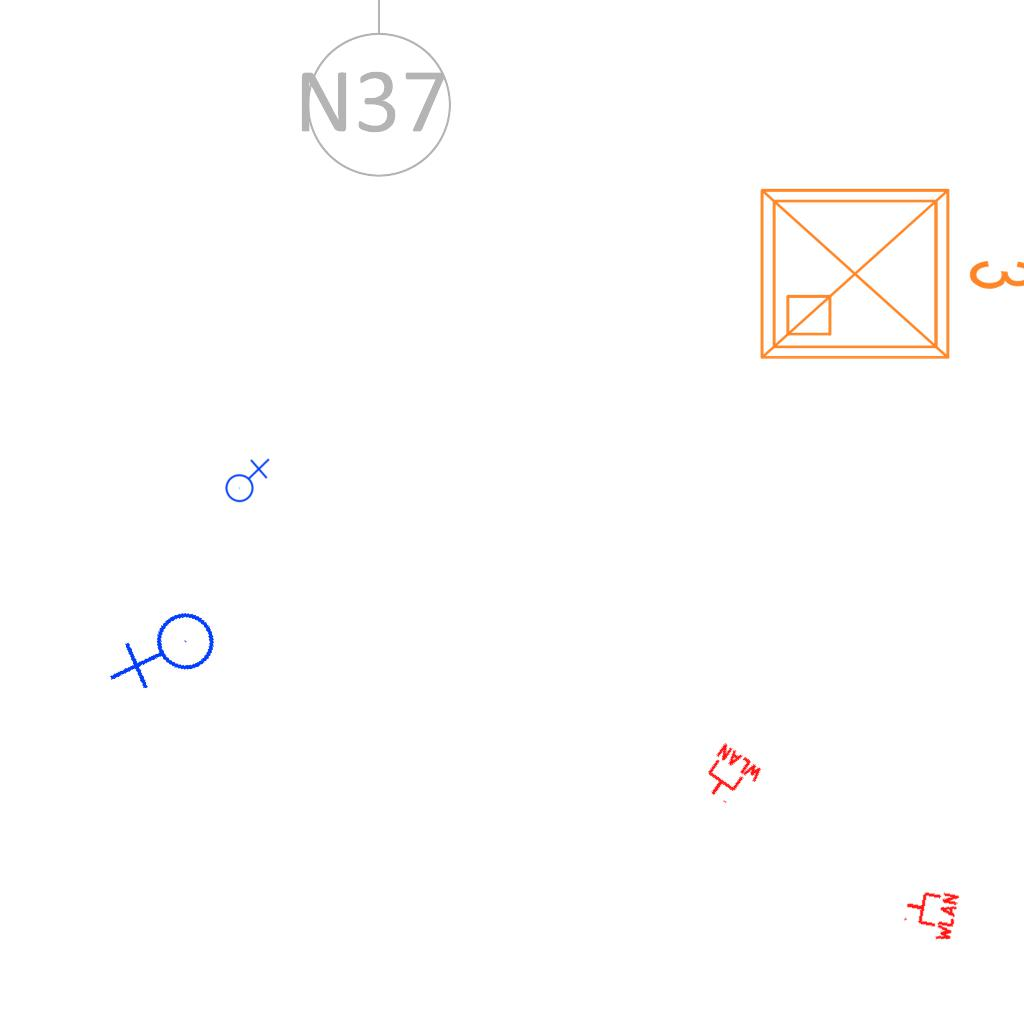Einbaudownlights_LED_Konferenzraeume: (746, 166, 1024, 374)
Elektroanschluss_allgemein_230V_Geraeteanschlussdose_230V: (106, 594, 231, 714), (221, 456, 270, 503)
WLAN: (693, 740, 767, 814), (899, 883, 961, 945)
